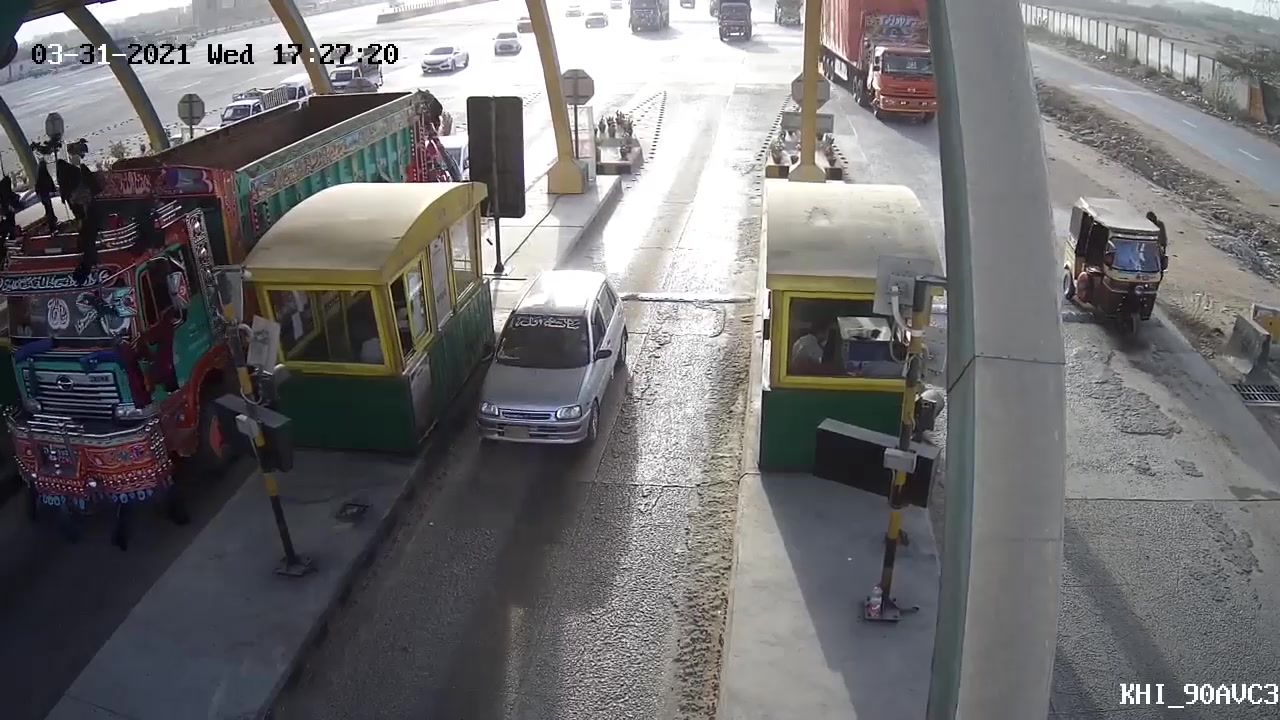F1: (470, 268, 634, 452)
